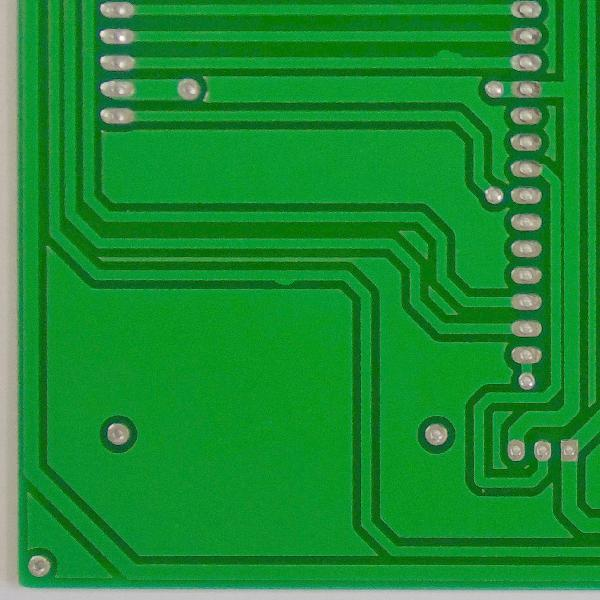spur: (427, 47, 469, 69), (270, 269, 298, 291)
